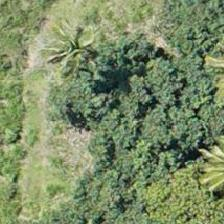coconut_tree: (174, 129, 223, 219)
